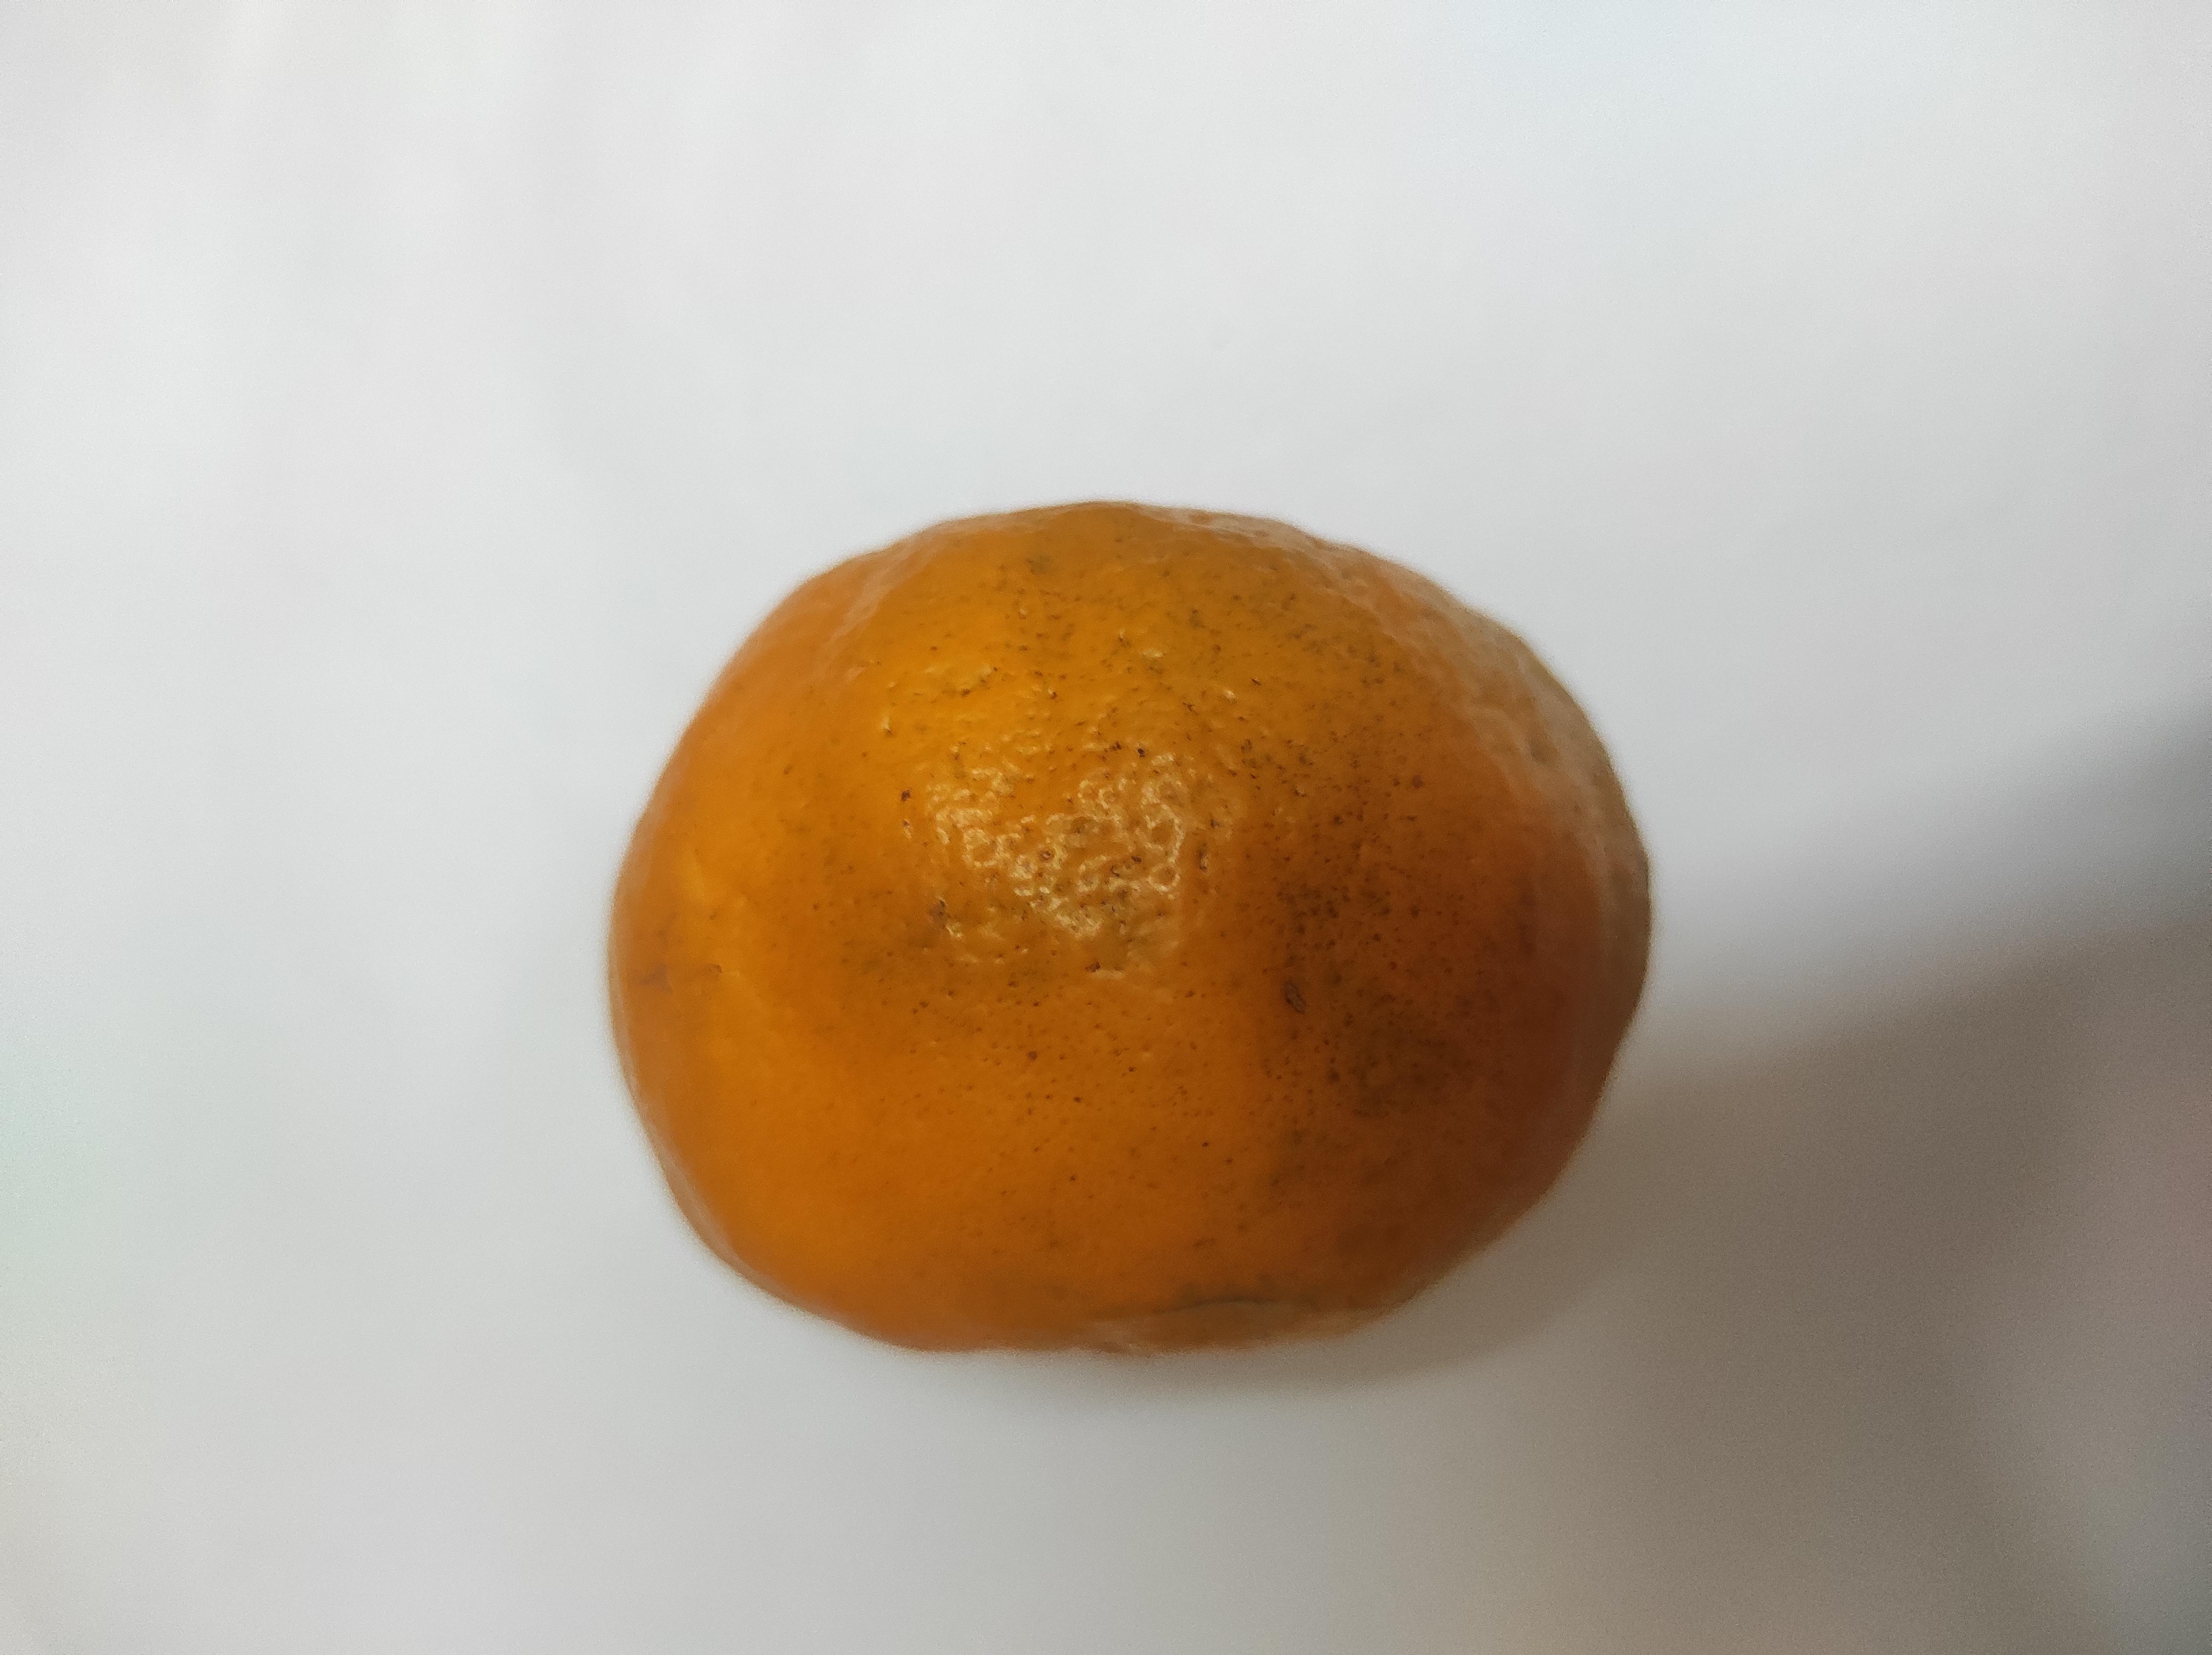Ripe: (407, 464, 1542, 1231)
